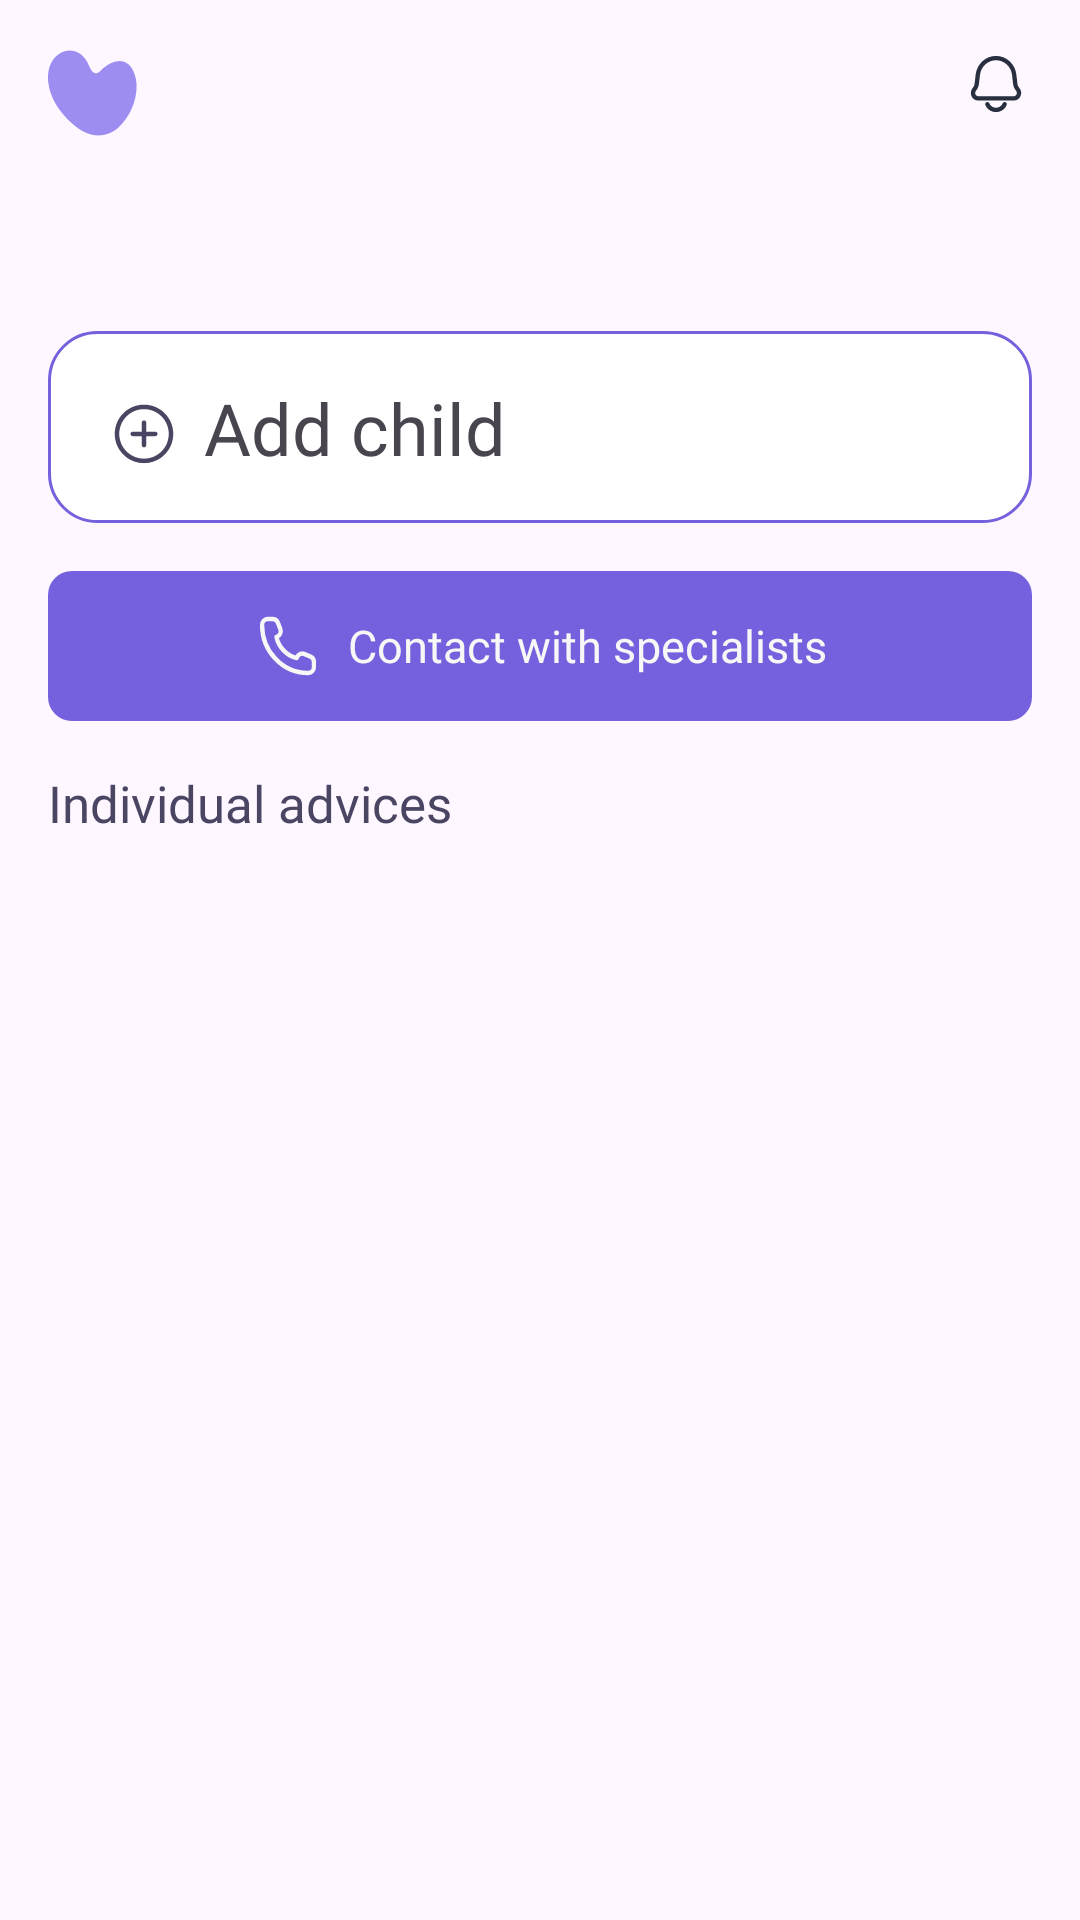

Named icons in this screenshot (1080*1920) and their bounding boxes, (x1,y1,x2,y2):
add circle: (114,404,174,463)
call: (260,616,316,676)
notification: (971,56,1022,112)
